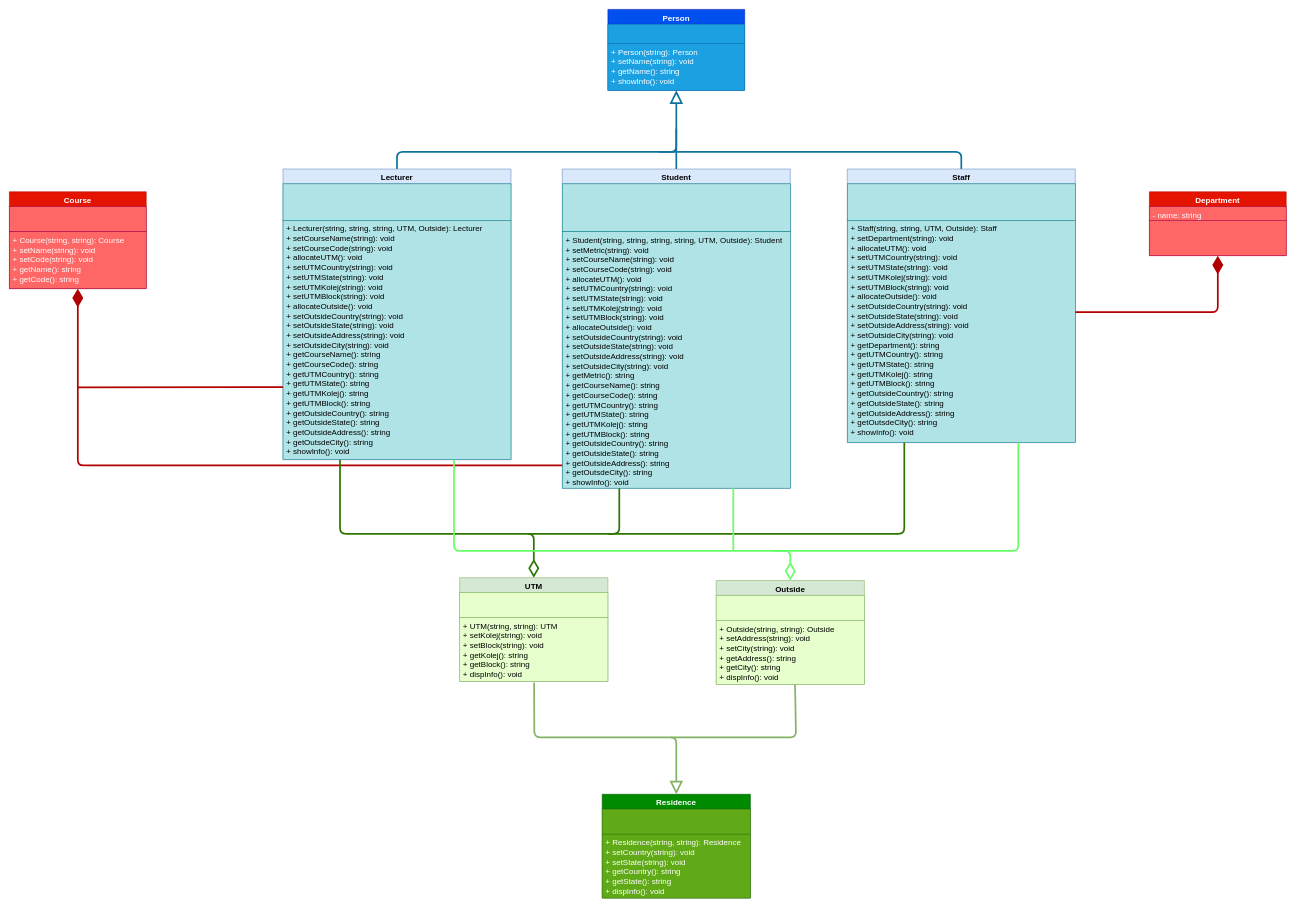
Some shapes in this 1296 by 907 pixel diagram are drawn without their labels. Each missing label, with the box of its shape:
# country: string # state: string: (602, 809, 750, 834)
# name: string: (607, 24, 745, 44)
+ Department(string): Department + setName(string): void + getName(): string: (1149, 220, 1286, 256)
- address: string - city: string: (716, 595, 864, 620)
- course: Course - kolej: UTM* - address: Outside*: (282, 183, 511, 220)
- department: Department - kolej: UTM* - address: Outside*: (847, 183, 1075, 220)
- kolej: string - block: string: (459, 592, 608, 618)
- metric: string - course: Course - kolej: UTM* - address: Outside*: (562, 183, 790, 232)
- name: string - code: string: (9, 206, 146, 232)
